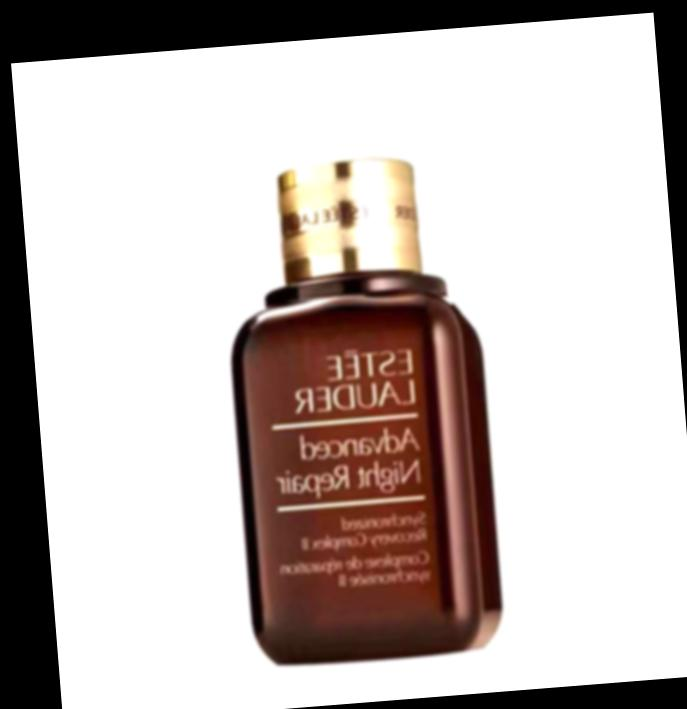cosmetic: (206, 48, 493, 660)
